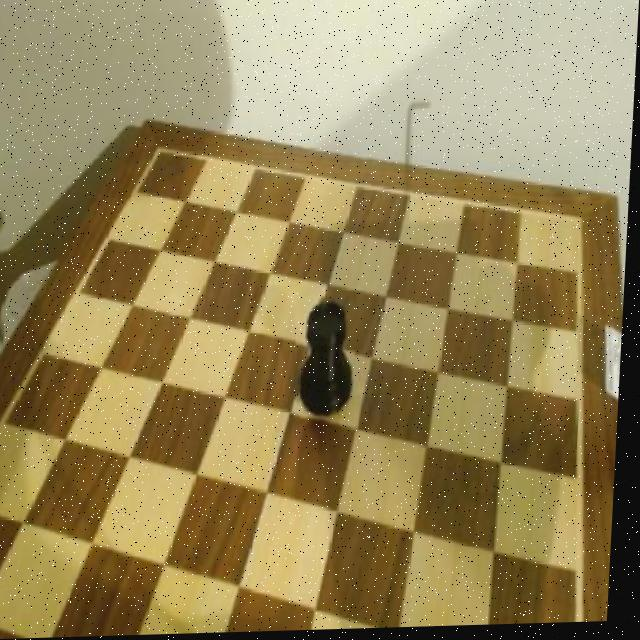black-queen: (295, 296, 362, 426)
